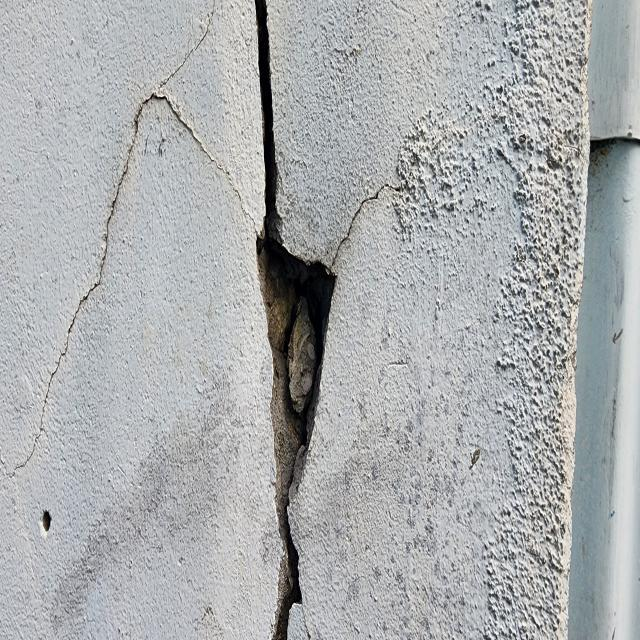SurfaceCrack: (190, 0, 581, 640), (1, 2, 179, 640)
